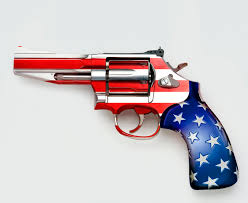gun: (12, 43, 241, 192)
